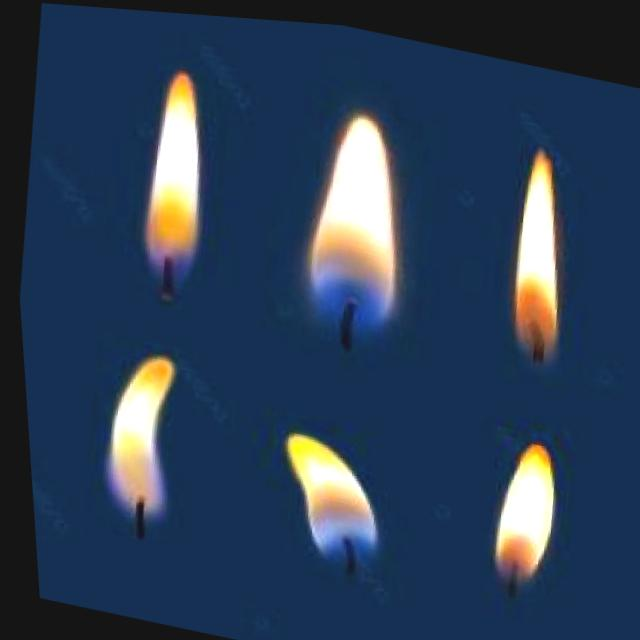helmet: (291, 100, 417, 332), (127, 63, 220, 288), (495, 137, 580, 359), (265, 427, 383, 565), (89, 345, 180, 522), (479, 428, 559, 578)
